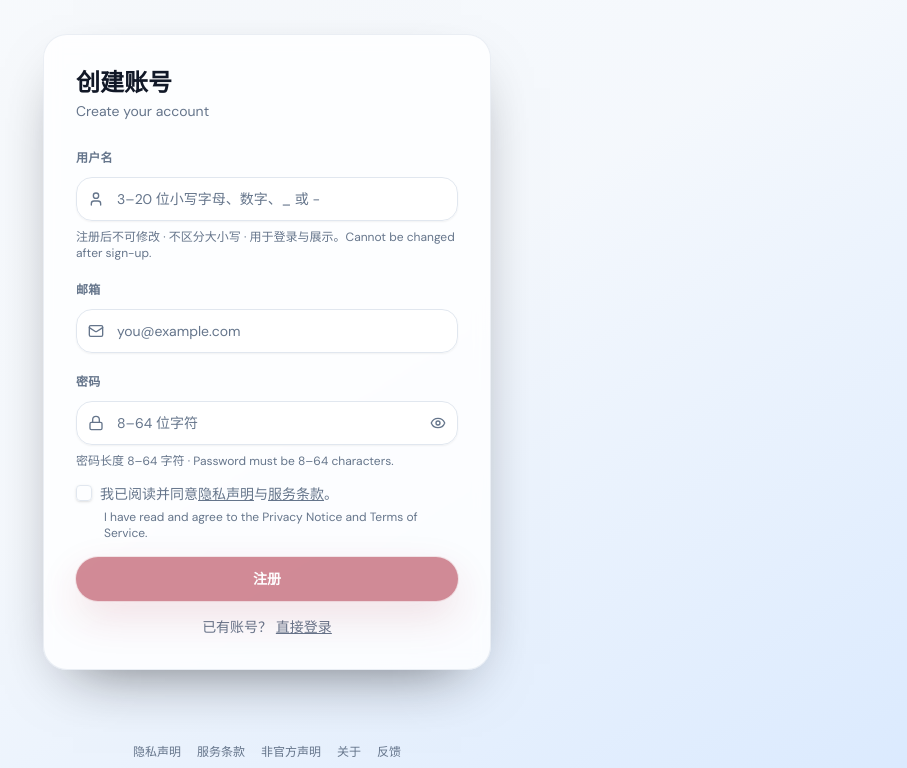
it: RegisterPage › surfaces explicit duplicate email/username errors from the backend inline
The image size is (907, 768).
In the field with placeholder "3–20 位小写字母、数字、_ 或 -": (267, 199) [76, 177, 458, 221], type "newuser"
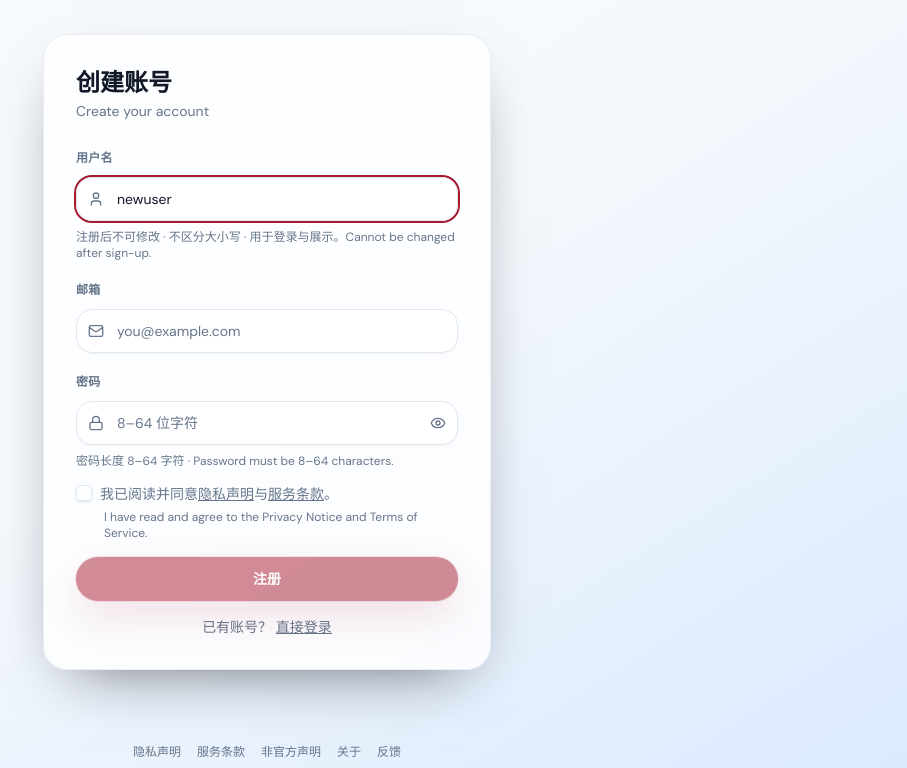
In the field with placeholder "you@example.com": (267, 331) [76, 309, 458, 353], type "newuser@example.com"
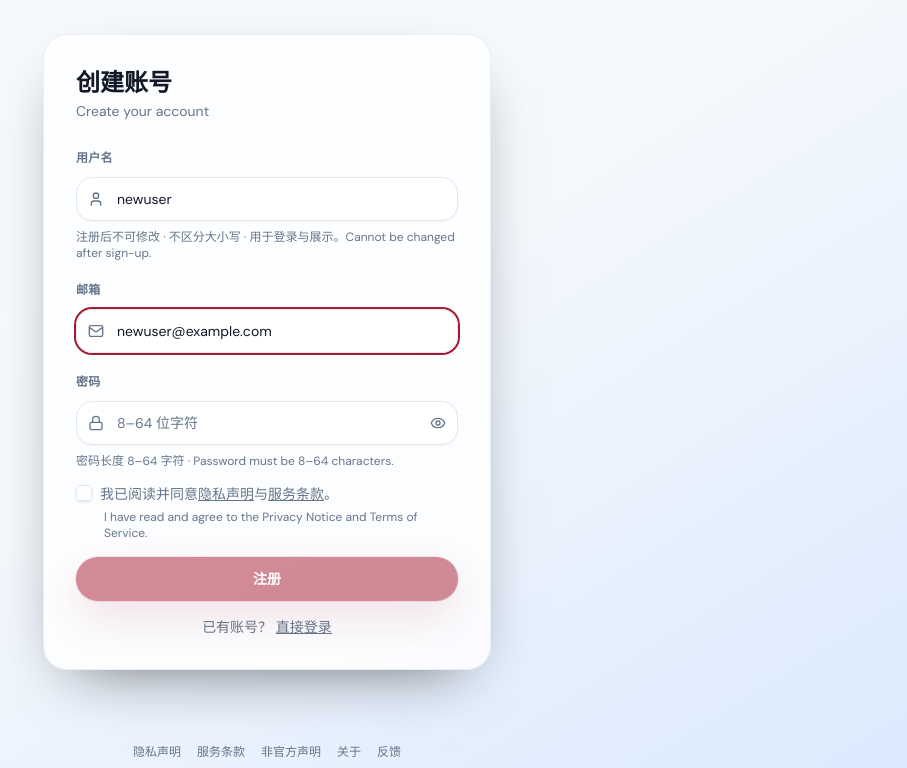
In the password field with placeholder "8–64 位字符": (267, 423) [76, 401, 458, 445], type "password123"
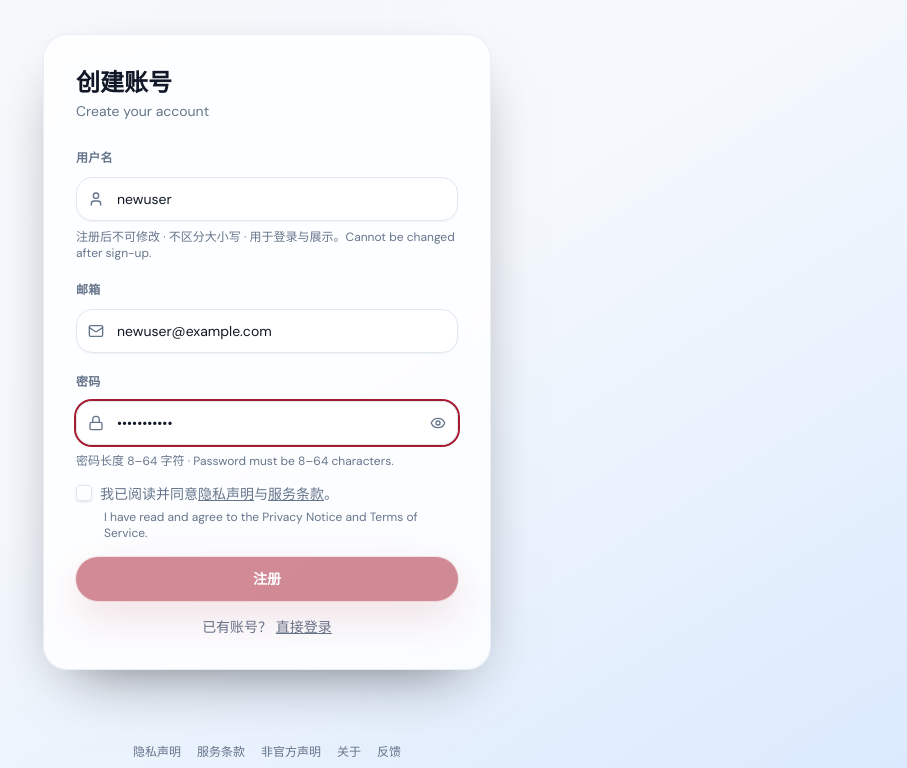
Click the checkbox: (84, 493) [76, 485, 92, 501]
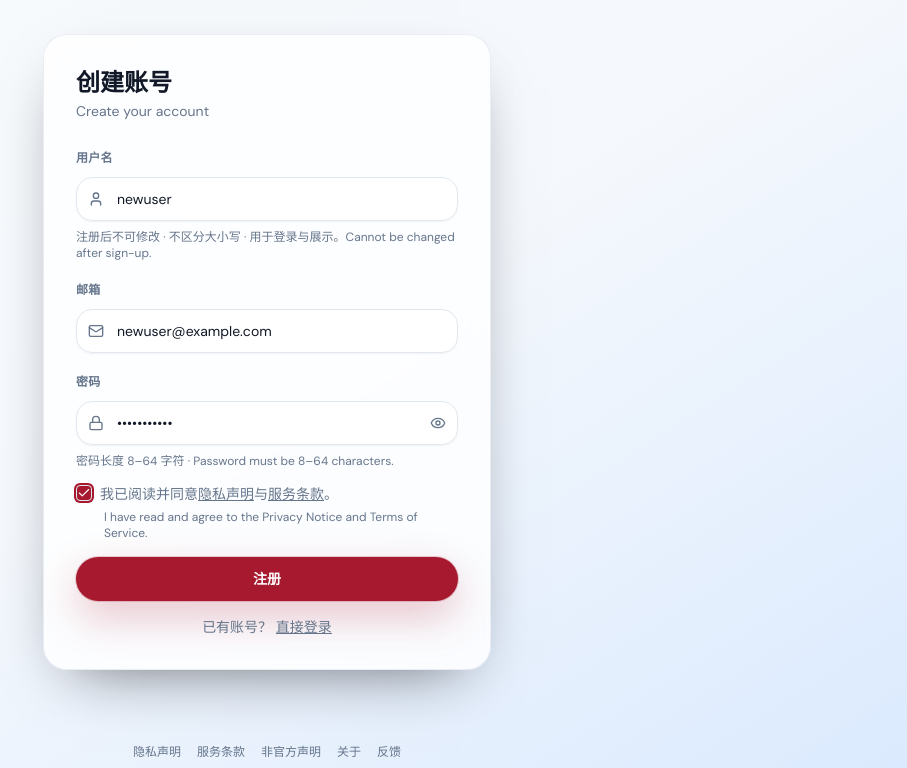
Click the button "注册": (267, 579) [76, 557, 458, 601]
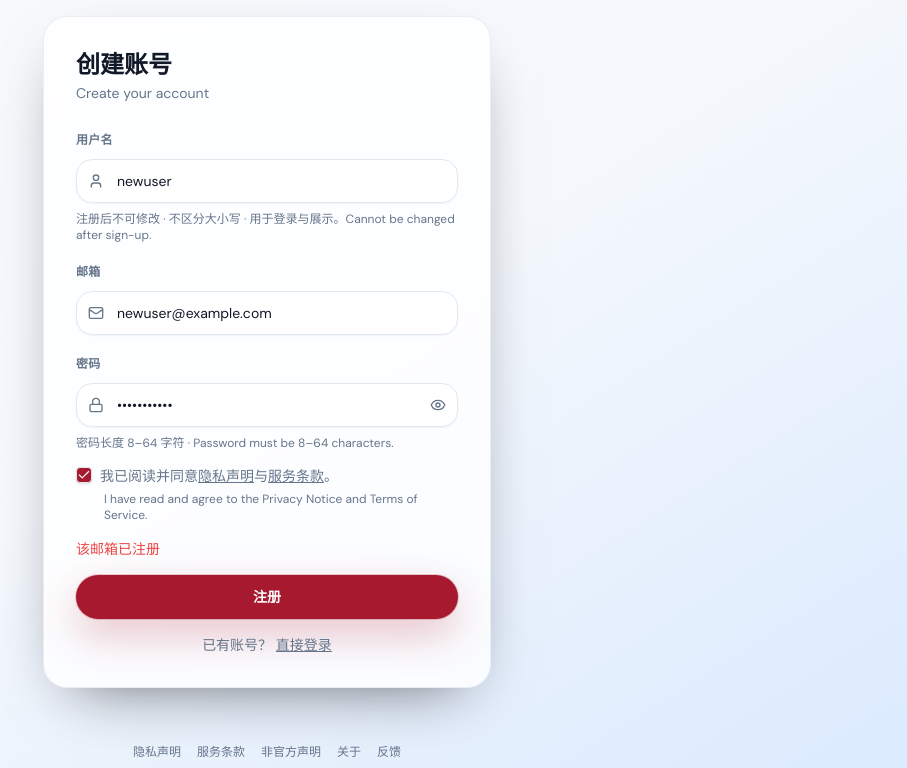
expect the text "该邮箱已注册" is shown: met, box [76, 540, 160, 558]
